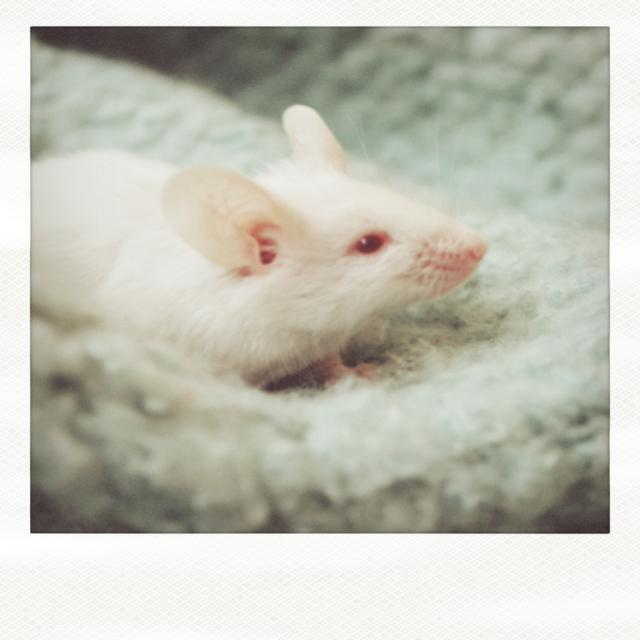rat: (29, 98, 495, 390)
